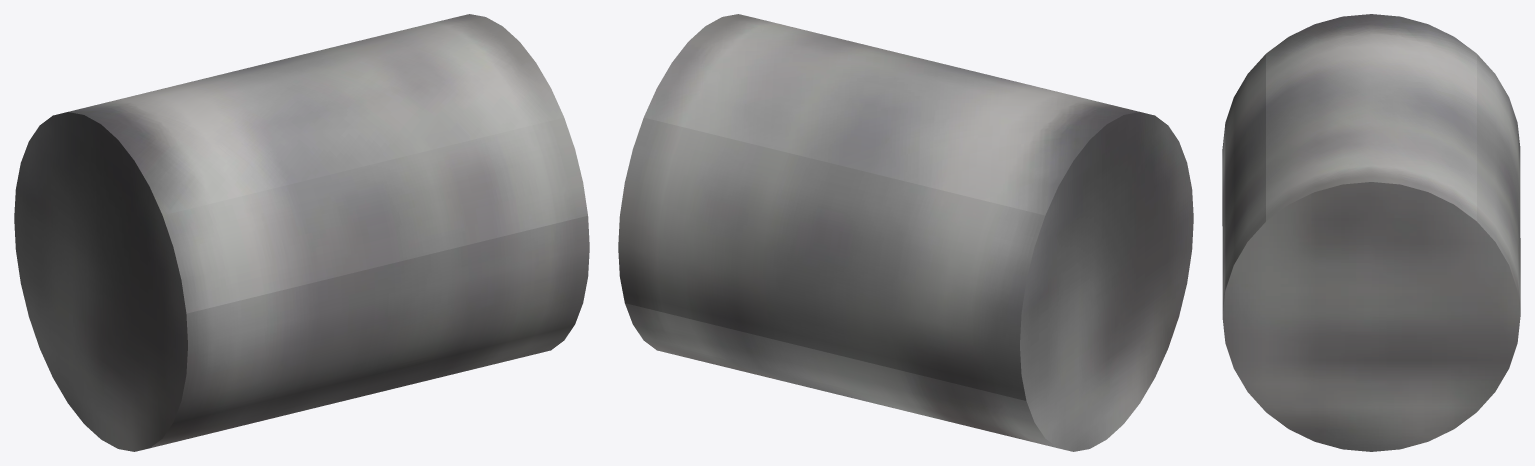
Rendered from clamp_lever__lever_tip.glb.
The picture shows the model from 3 angles, left to right: view 1: azimuth 30°, elevation 25°; view 2: azimuth 150°, elevation 25°; view 3: azimuth 270°, elevation 25°; orthographic projection. The views are drawn at different scales.
Parts seen in each view (by area): view 1: geometry_0; view 2: geometry_0; view 3: geometry_0.
Part boxes in pixels (x1,y1,x2,y2): geometry_0: [14, 14, 589, 451]; geometry_0: [618, 14, 1193, 451]; geometry_0: [1222, 14, 1520, 451].
Bounding box in the file's own units: 0.012 × 0.009 × 0.009.
1 material, 1 textured.
